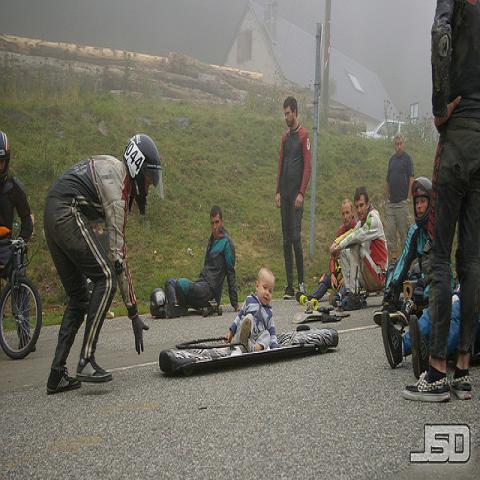car: (362, 116, 419, 142)
